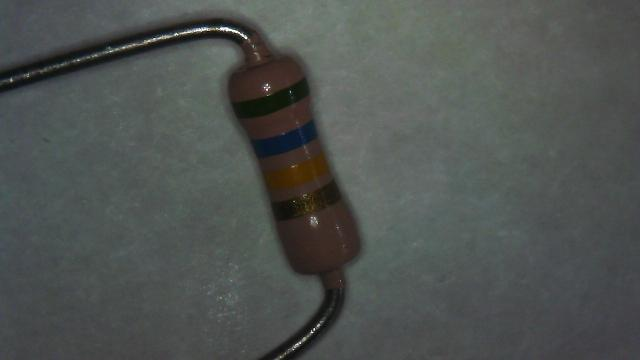blue: (250, 120, 318, 158)
gold: (272, 180, 340, 220)
green: (232, 78, 309, 117)
resistor: (192, 22, 380, 306)
yellow: (264, 152, 328, 190)
